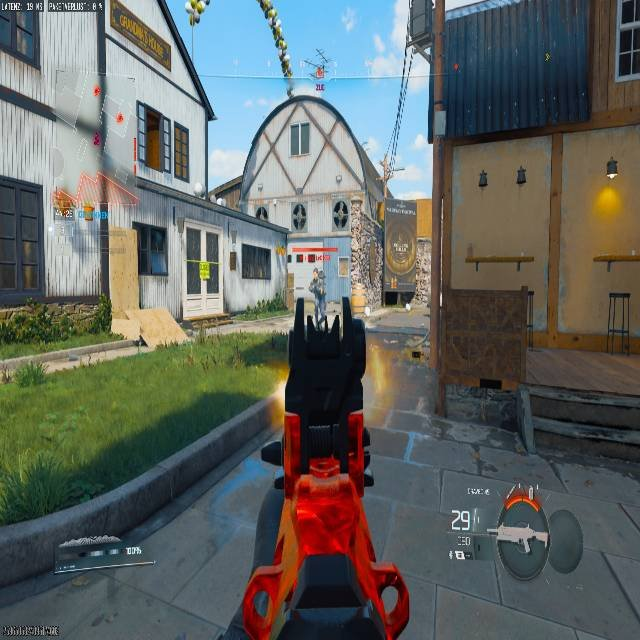head: (311, 263, 322, 279), (313, 266, 320, 274)
player: (182, 0, 289, 66), (308, 267, 326, 322), (292, 203, 307, 232)
